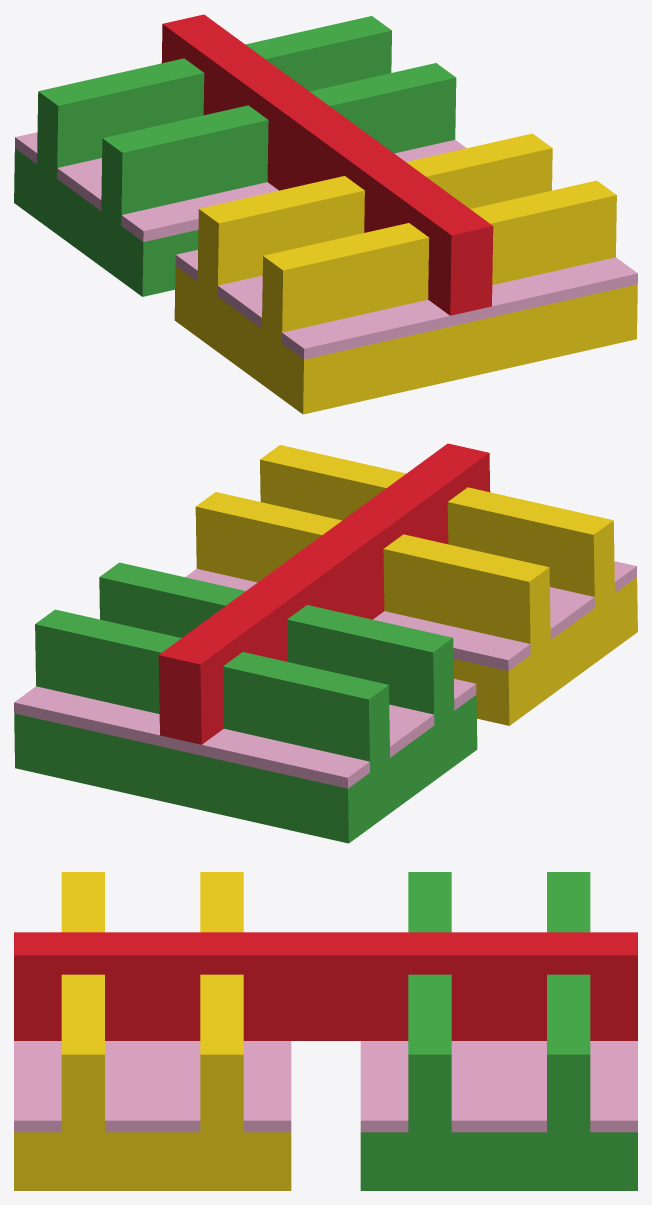
The model's file is 5nmFinFET.obj.
3 renders of one model, top to bottom at view 1: azimuth 30°, elevation 25°; view 2: azimuth 150°, elevation 25°; view 3: azimuth 270°, elevation 25°, orthographic. The views are drawn at different scales.
Visible parts, largest first — view 1: group_0_16768282, group_0_4634441, group_0_15277357, group_0_15708628; view 2: group_0_4634441, group_0_16768282, group_0_15277357, group_0_15708628; view 3: group_0_15277357, group_0_4634441, group_0_16768282, group_0_15708628.
Boxes of the visible parts, box(x1,y1,x2,y2) form: group_0_16768282: box(174, 133, 637, 414); group_0_4634441: box(14, 16, 456, 296); group_0_15277357: box(161, 14, 493, 315); group_0_15708628: box(15, 132, 637, 359); group_0_4634441: box(14, 562, 477, 843); group_0_16768282: box(195, 445, 637, 725); group_0_15277357: box(158, 443, 490, 744); group_0_15708628: box(14, 561, 636, 788); group_0_15277357: box(14, 932, 637, 1040); group_0_4634441: box(360, 872, 637, 1190); group_0_16768282: box(14, 872, 291, 1190); group_0_15708628: box(14, 1041, 637, 1132).
Size of the model in its own units: 96.6 by 40.94 by 144.
